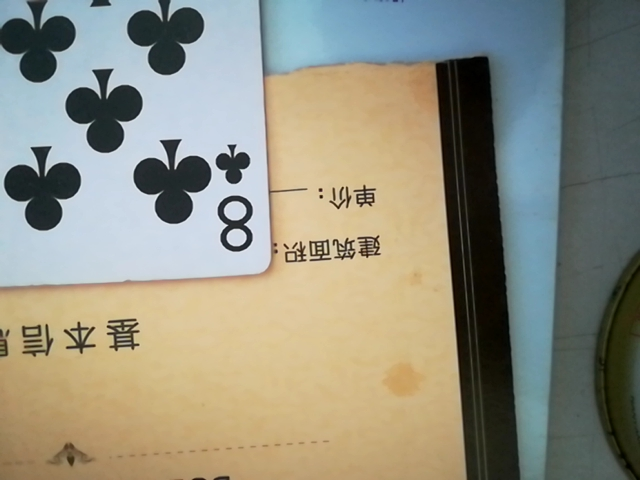mh 8: (0, 1, 275, 296)
